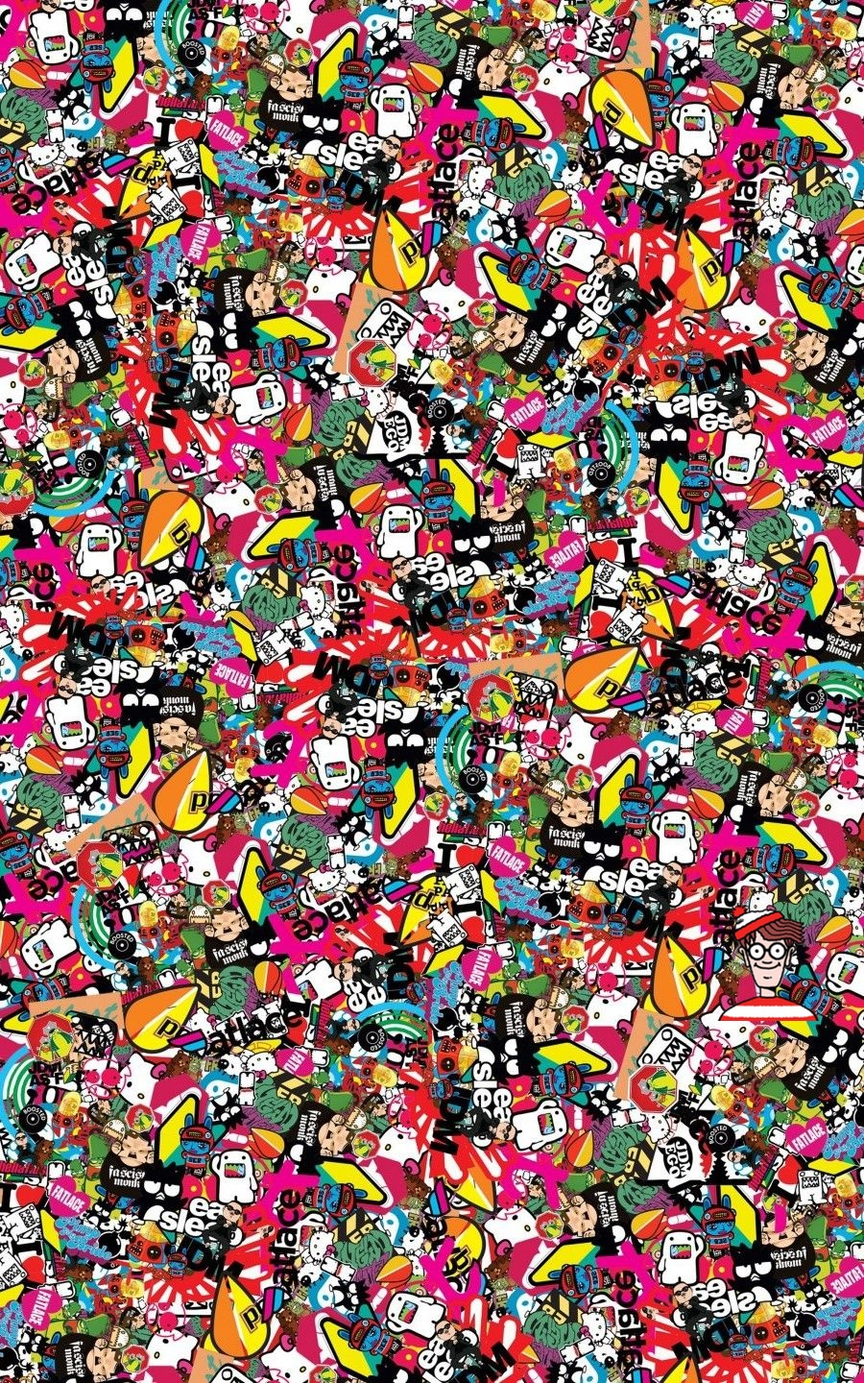waldo: (717, 903, 819, 1021)
